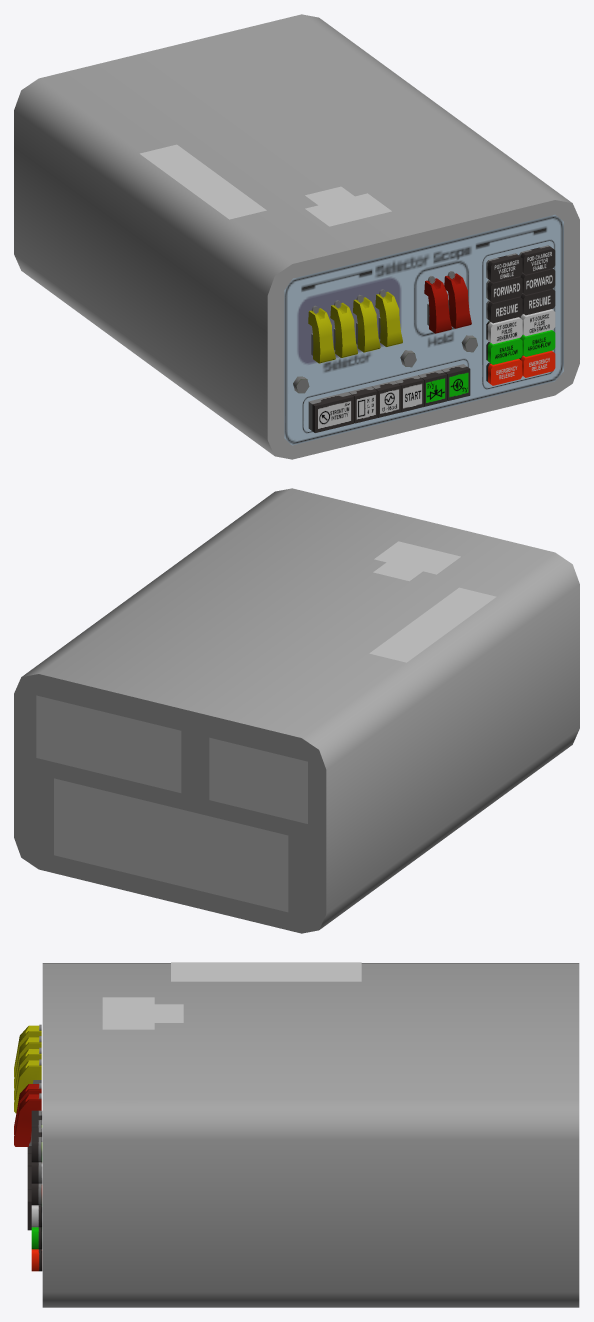
Rendered from Prop_52_Box.fbx.
The picture shows the model from 3 angles, top to bottom: view 1: azimuth 30°, elevation 25°; view 2: azimuth 150°, elevation 25°; view 3: azimuth 270°, elevation 25°; orthographic projection. The views are drawn at different scales.
Visible parts, largest first — view 1: Prop_52_Box, LOD_0.161; view 2: Prop_52_Box; view 3: Prop_52_Box, LOD_0.161.
Part boxes in pixels (box(x1,y1,x2,y2)): Prop_52_Box: box(14, 14, 579, 459); LOD_0.161: box(284, 214, 563, 445); Prop_52_Box: box(14, 488, 579, 933); Prop_52_Box: box(42, 962, 579, 1307); LOD_0.161: box(14, 1024, 42, 1271).
Size of what is drawn, in the model's own units: 0.3496 by 0.2098 by 0.5185.
